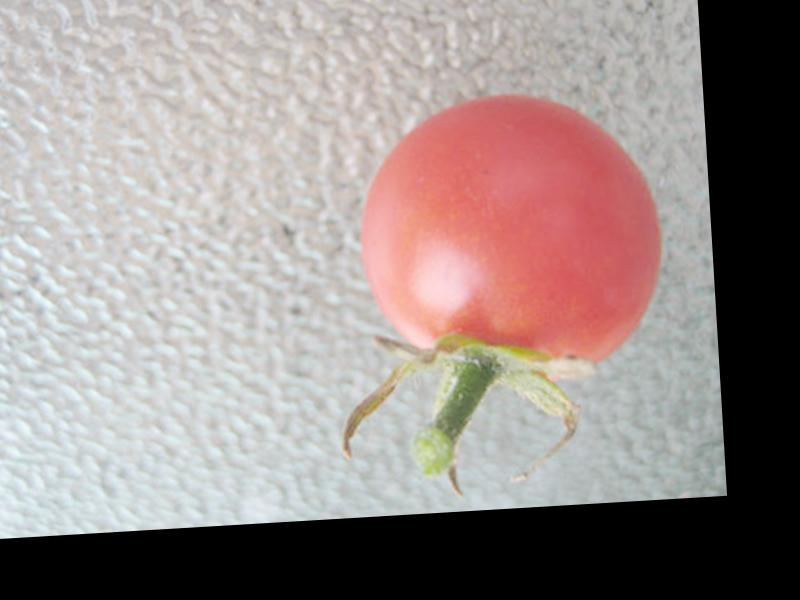Tomato: (348, 84, 666, 377)
